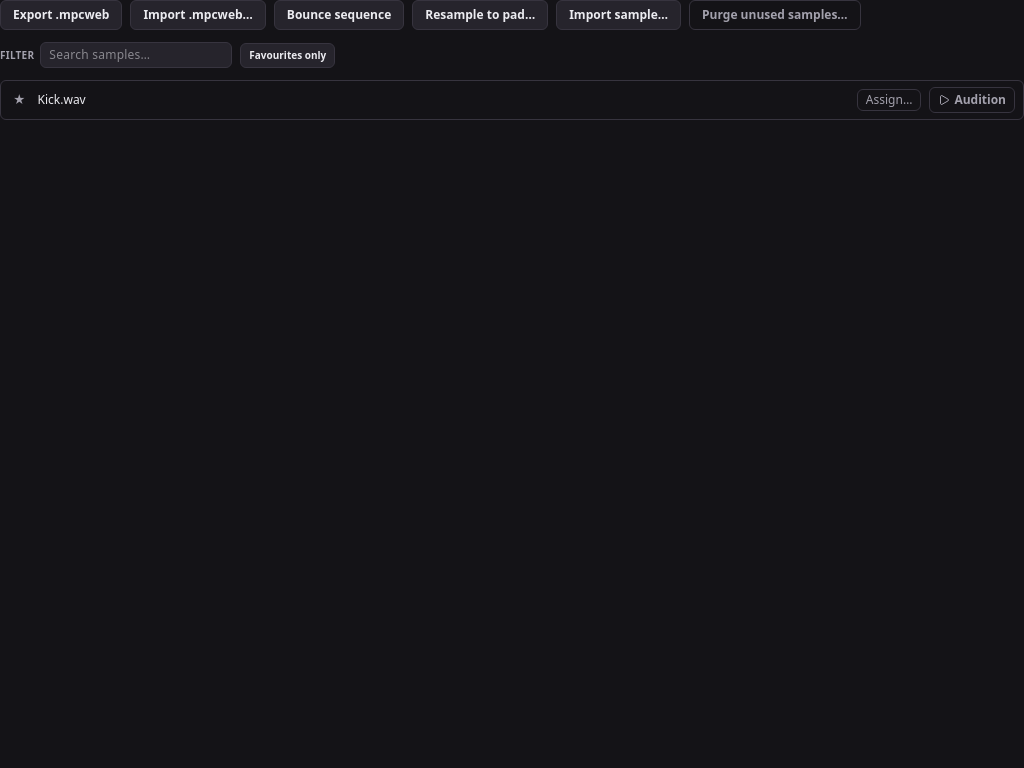
Assign from a Browser row (spec §8.5.7) › opens the target chooser and assigns to the chosen pad
The width and height of the screenshot is (1024, 768).
Click the button "Assign…" at (889, 100), box [857, 89, 921, 111]
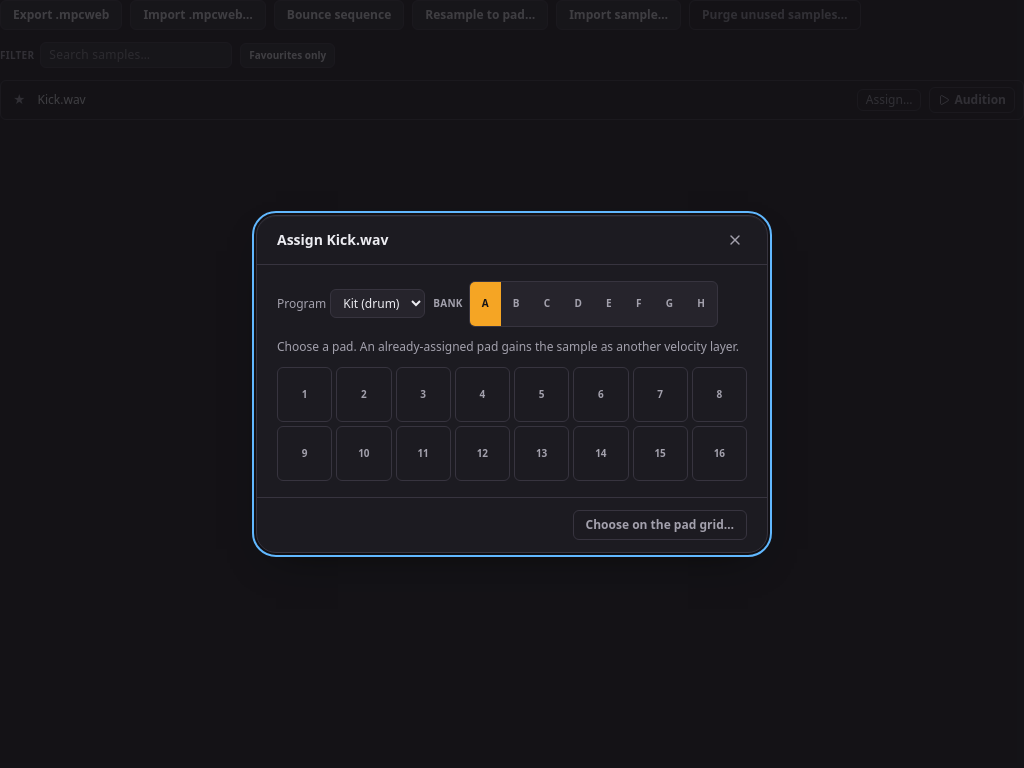
Click the button with test id "assign-pad-2" at (423, 394), box [396, 367, 451, 422]
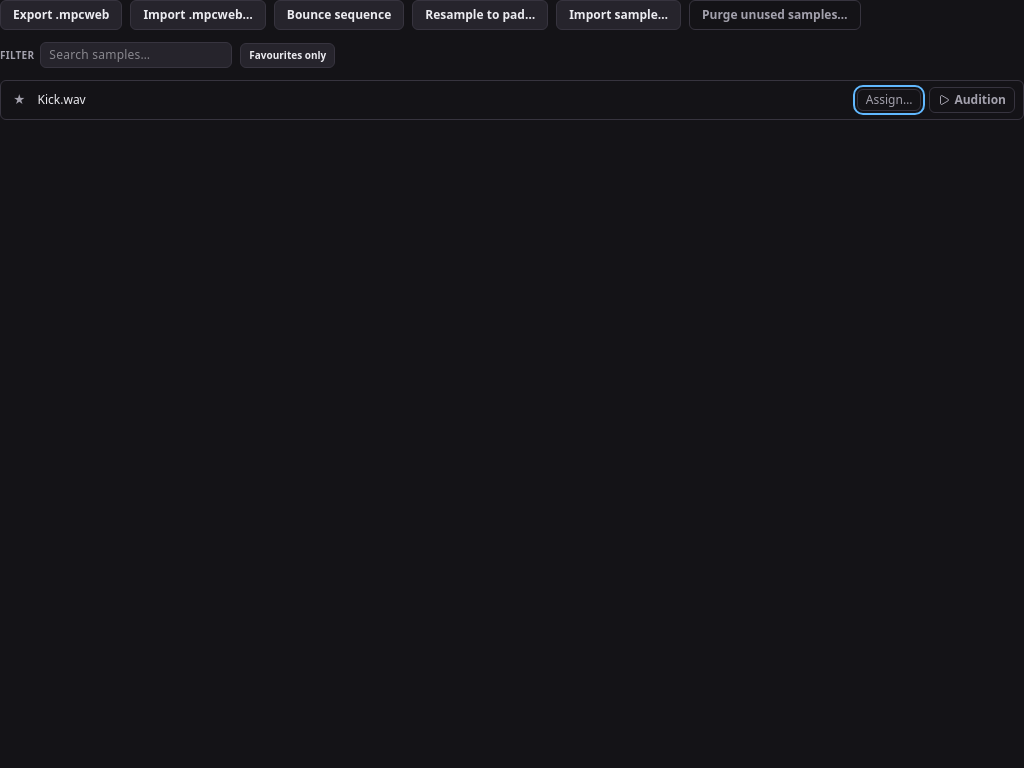
Check: the dialog with test id "assign-target-dialog" is gone
